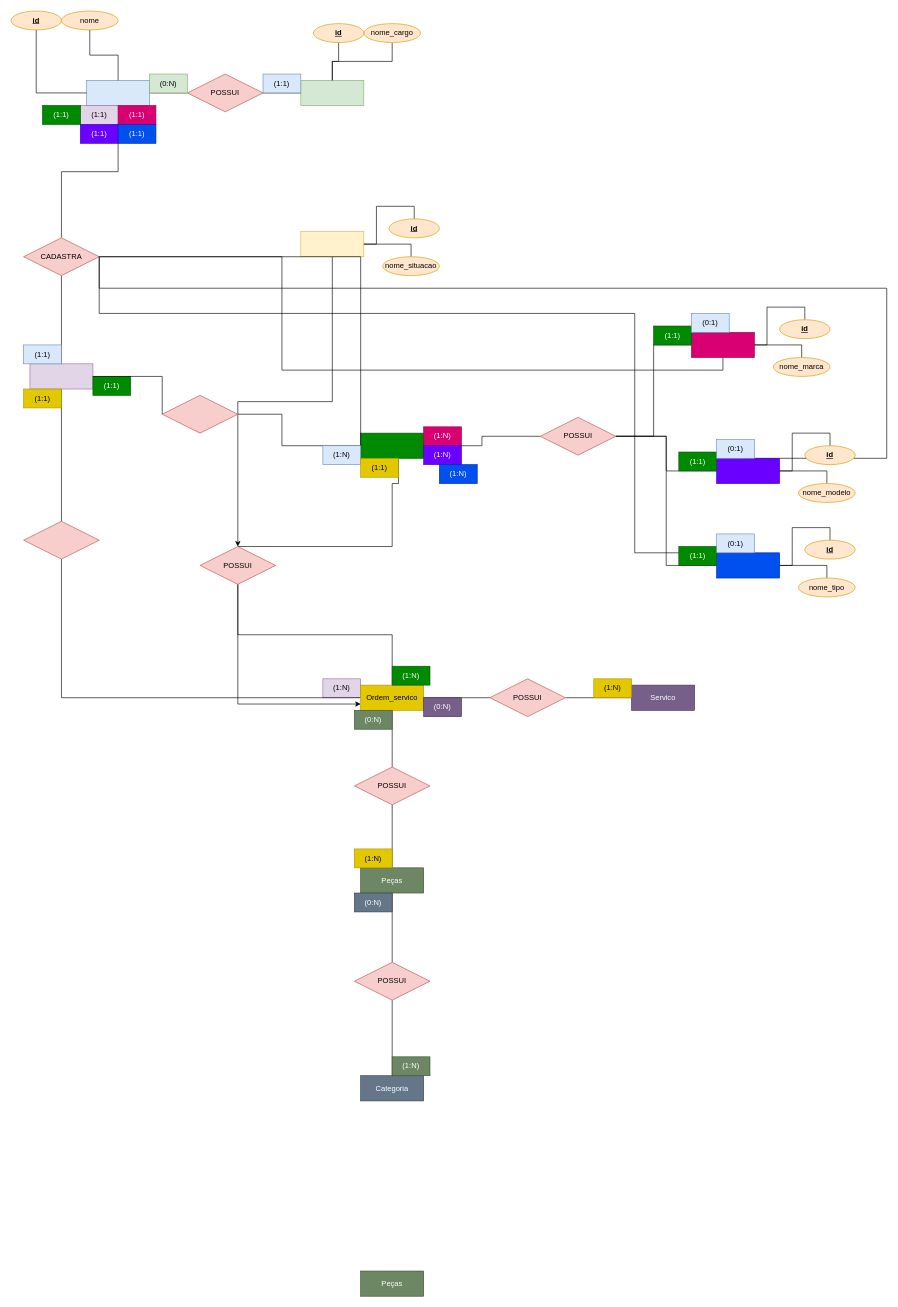
This 898x1307 diagram has some shape labels left out. Here are the shapes that lost their labels. From the top down, the centre of each, then its label:
[118,93]: Funcionario
[332,93]: cargo
[332,244]: Situacao
[722,345]: Marca
[61,376]: Cliente
[200,414]: PERTENCE
[392,445]: Equipamento
[748,471]: Modelo
[61,540]: SOLICITA
[748,565]: Tipo
